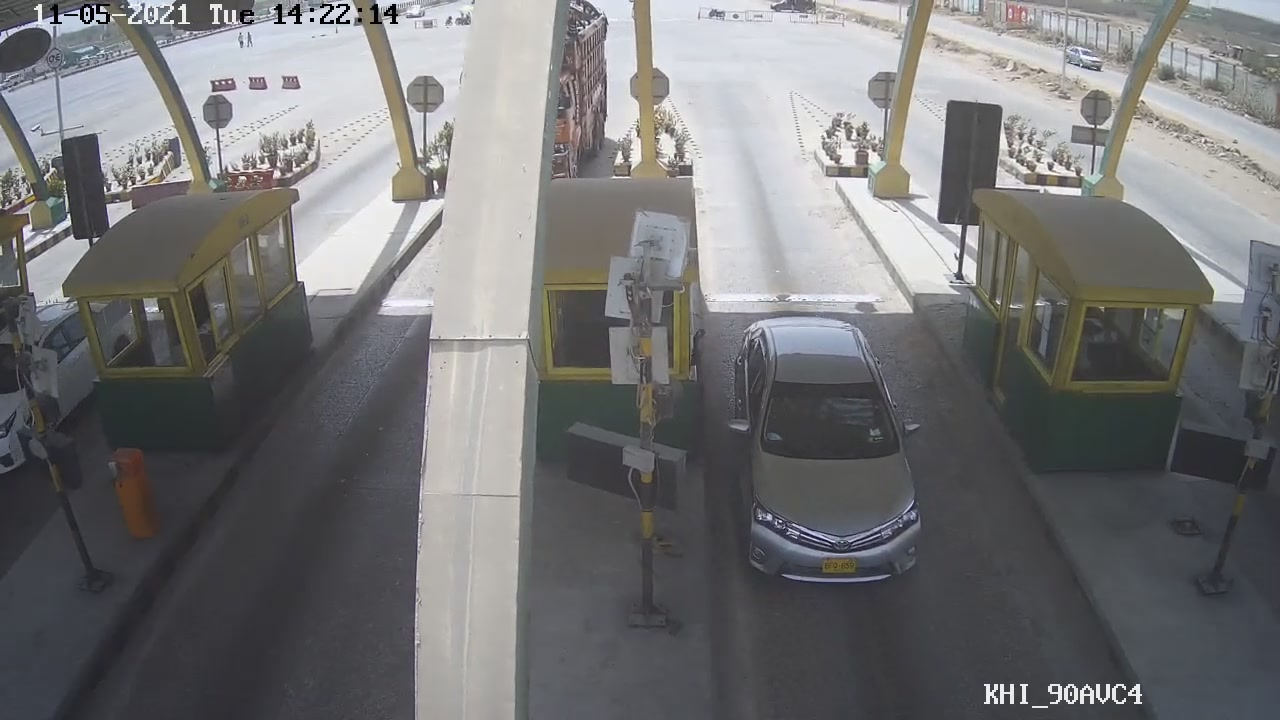F1: (725, 307, 925, 595)
